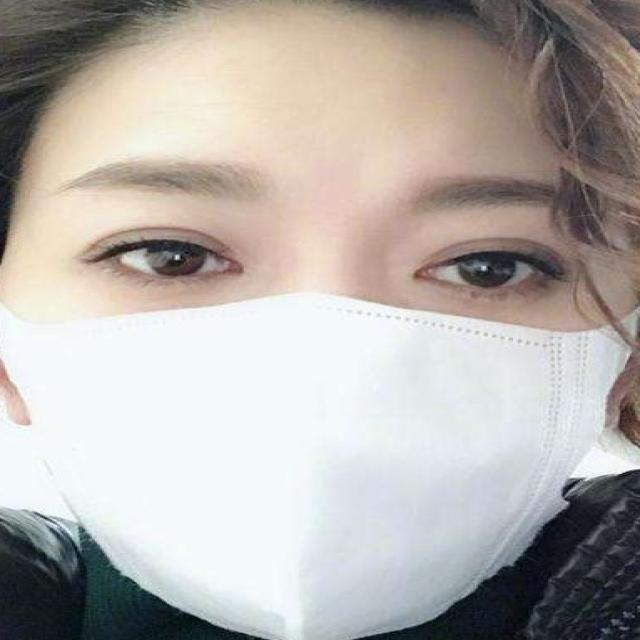mask: (22, 277, 624, 621)
